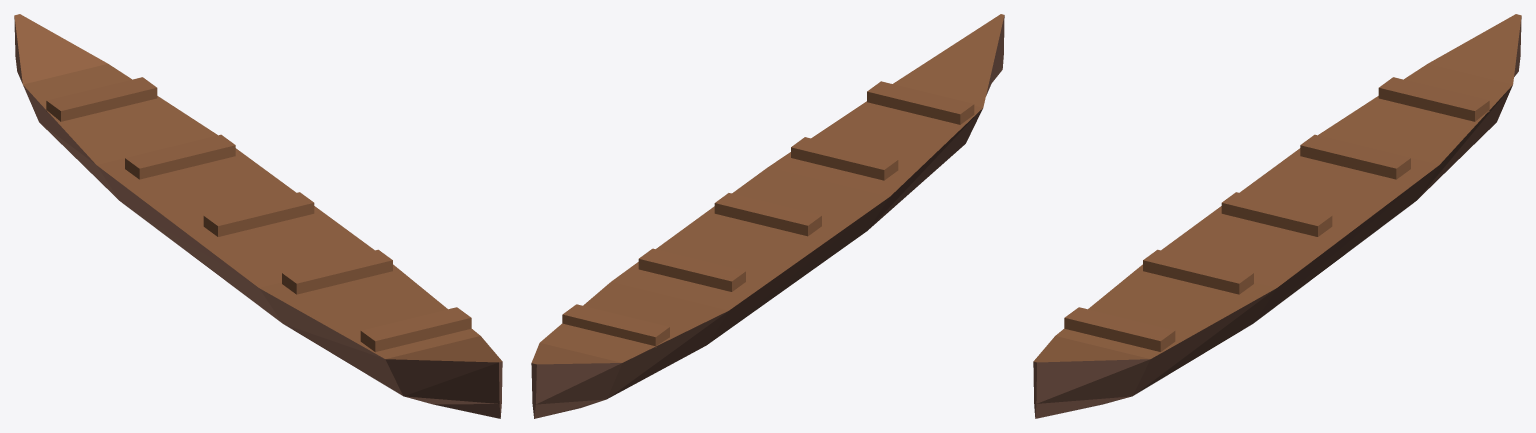
The model's file is 025_rowing_vallam.glb.
3 renders of one model, left to right at view 1: azimuth 30°, elevation 25°; view 2: azimuth 150°, elevation 25°; view 3: azimuth 330°, elevation 25°, orthographic. The views are drawn at different scales.
Parts seen in each view (by area): view 1: Rowing vallam; view 2: Rowing vallam; view 3: Rowing vallam.
Part boxes in pixels (x1=…): Rowing vallam: x1=14, y1=14, x2=502, y2=418; Rowing vallam: x1=531, y1=14, x2=1004, y2=418; Rowing vallam: x1=1033, y1=14, x2=1521, y2=418.
Bounding box in the file's own units: 1.2 × 0.9 × 8.
